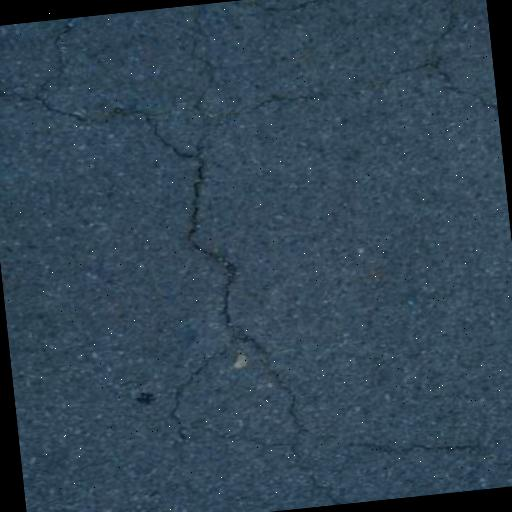spalling: (0, 83, 358, 501), (154, 334, 289, 466)
